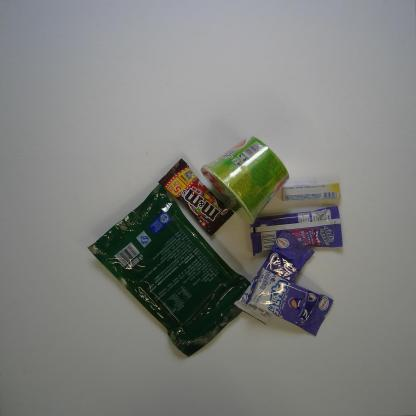Candy: (234, 230, 316, 326), (247, 266, 333, 336), (249, 206, 343, 257), (282, 183, 340, 201)
Chocolate: (158, 158, 234, 237)
Dried Food: (87, 183, 254, 357)
Instant Noodles: (199, 135, 290, 225)
